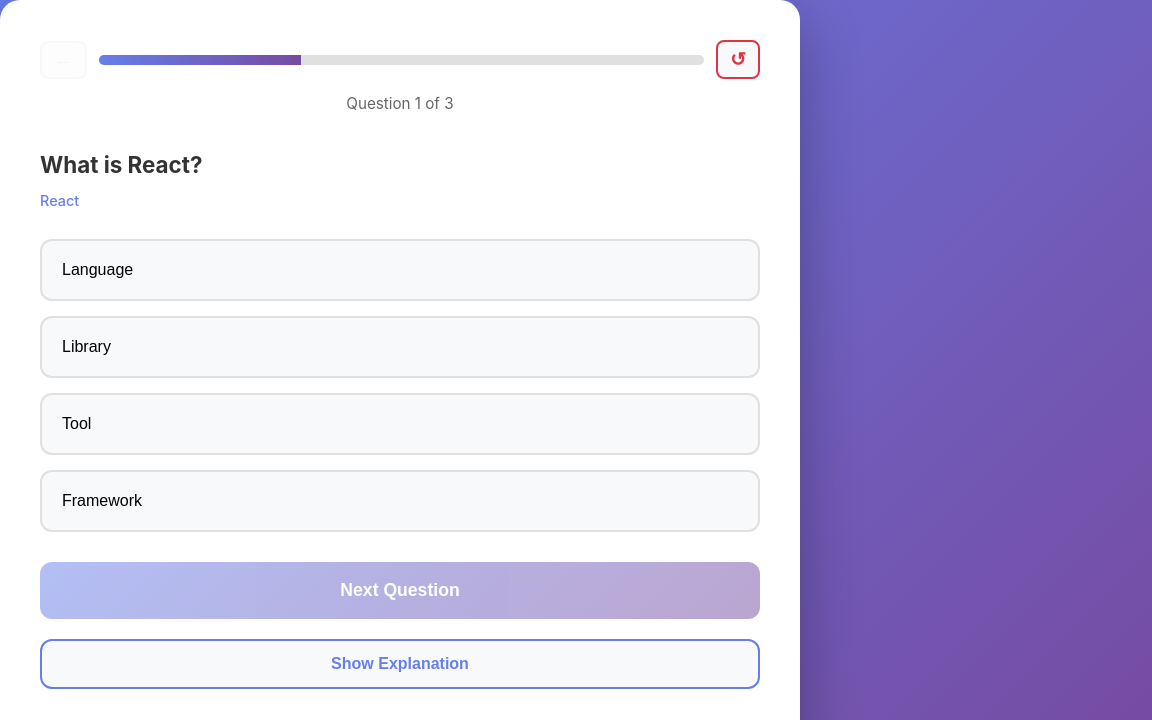
Test: QuizScreen - Previous Button Navigation › should respond to Backspace keyboard shortcut
This screenshot has width=1152, height=720.
Click the button "Language" at (98, 269), box [40, 239, 760, 301]
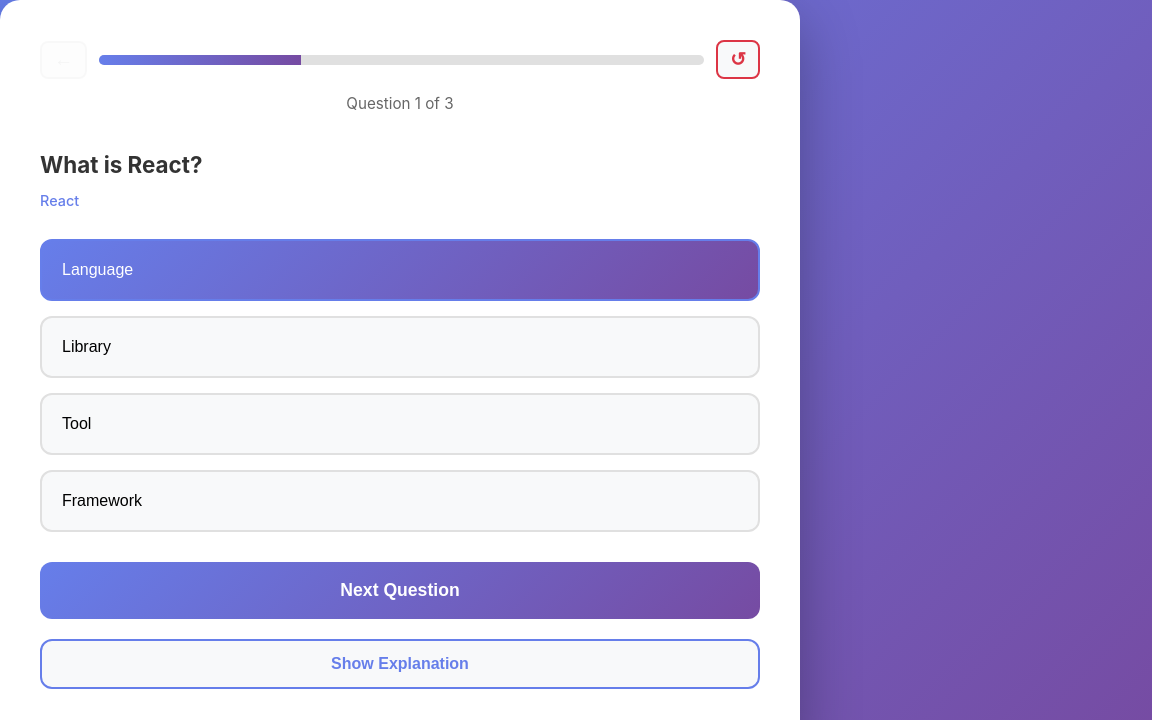
Click the button "Next Question" at (400, 590), box [40, 562, 760, 619]
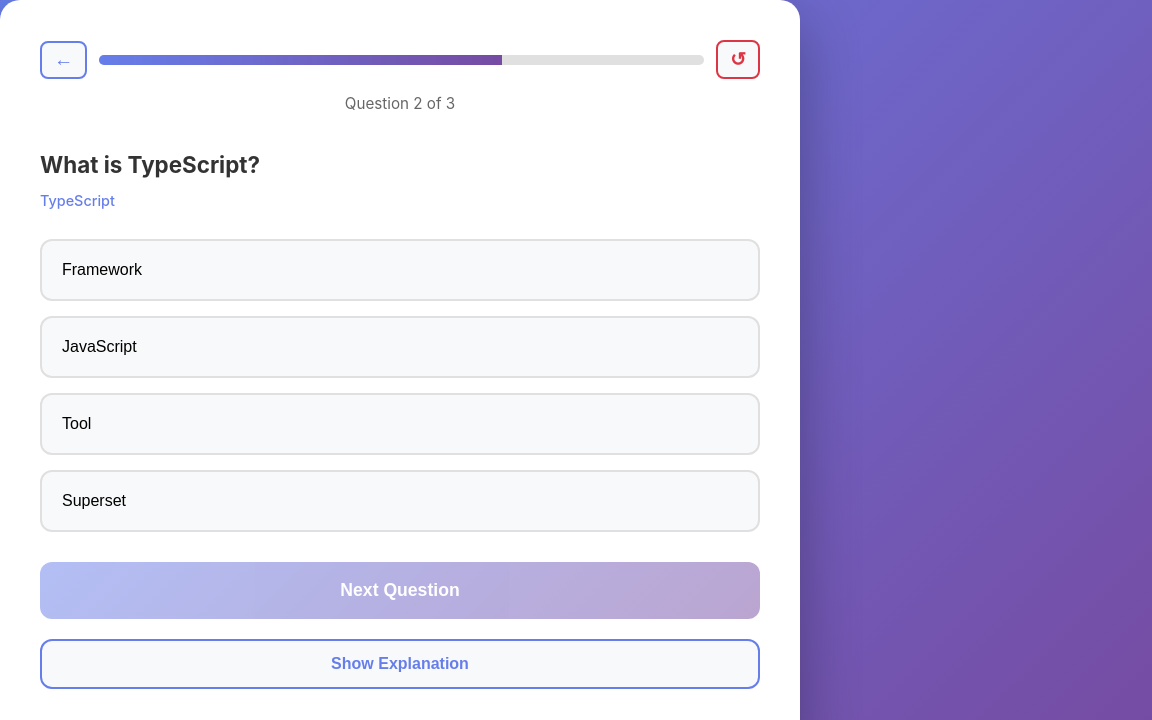
Check: the text "Question 2 of 3" is shown, box [345, 94, 455, 113]
Note: Press Backspace
Press Backspace
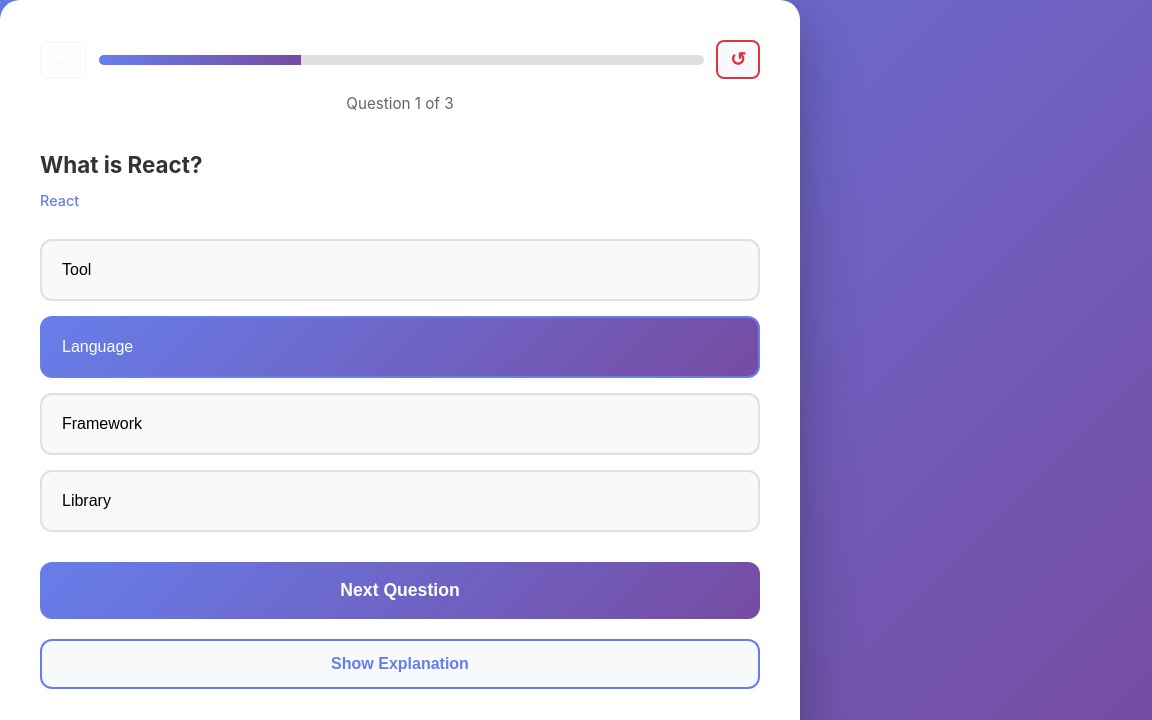
Check: the text "Question 1 of 3" is shown, box [346, 94, 454, 113]
